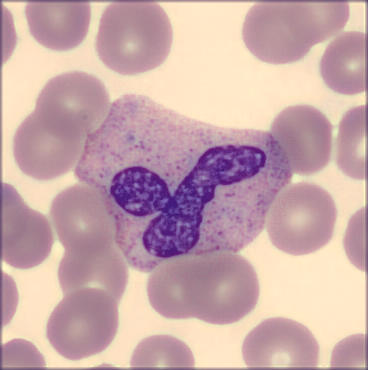WBC: (74, 90, 293, 274)
